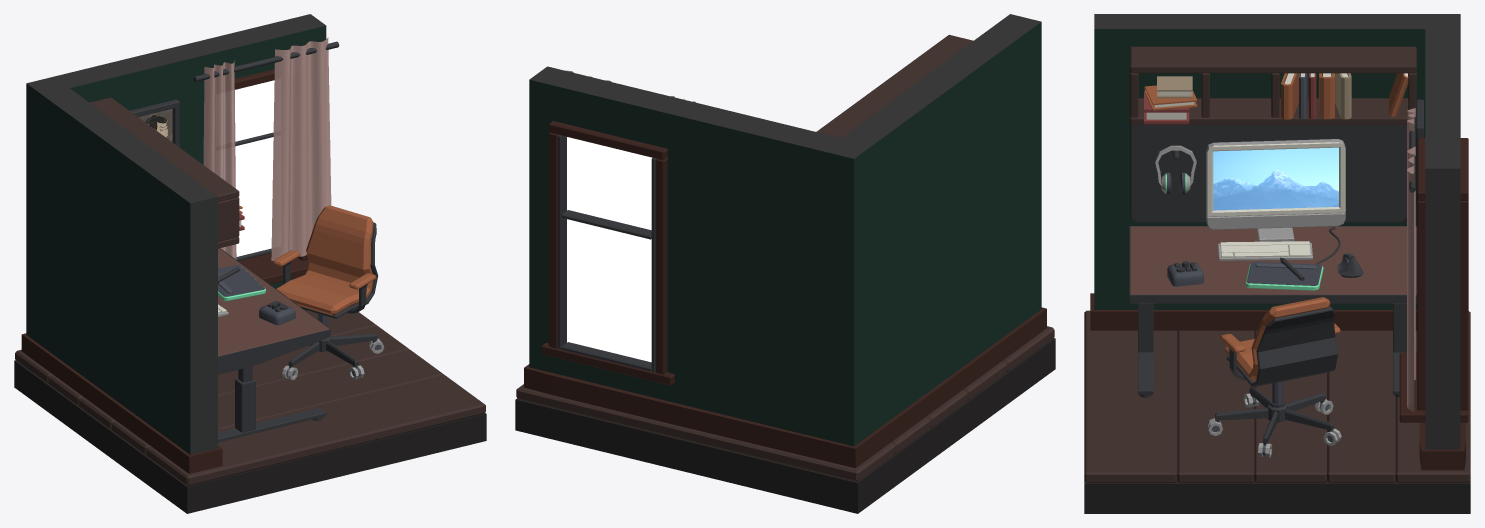
The model's file is cozy_workplace_corner_edited.glb.
3 views of the same model, side by side, from view 1: azimuth 30°, elevation 25°; view 2: azimuth 150°, elevation 25°; view 3: azimuth 270°, elevation 25° (orthographic). The views are drawn at different scales.
Visible parts, largest first — view 1: Walls, Floor (planks), Floor, Curtain R, Chair, Table, window plane, Walls (baseboard), Shelf, Curtain L, Window, Poster (+3 smaller); view 2: Walls, Floor, window plane, Walls (baseboard), Window, Floor (planks), Window (inside), Shelf; view 3: Walls, Floor (planks), Table, IKEA Pegboard, Shelf, Monoblock, Floor, Chair, Walls (baseboard), Window, Curtain R, Tablet (+12 smaller).
Part boxes in pixels (x1=…): Walls: x1=26, y1=14, x2=326, y2=454; Floor (planks): x1=15, y1=310, x2=485, y2=485; Floor: x1=14, y1=360, x2=486, y2=513; Curtain R: x1=271, y1=37, x2=331, y2=260; Chair: x1=273, y1=205, x2=384, y2=379; Table: x1=218, y1=248, x2=330, y2=442; window plane: x1=235, y1=80, x2=274, y2=256; Walls (baseboard): x1=21, y1=333, x2=222, y2=473; Shelf: x1=90, y1=97, x2=239, y2=248; Curtain L: x1=203, y1=60, x2=236, y2=259; Window: x1=234, y1=69, x2=308, y2=284; Poster: x1=130, y1=99, x2=179, y2=147; Walls: x1=529, y1=14, x2=1041, y2=446; Floor: x1=515, y1=338, x2=1055, y2=513; window plane: x1=567, y1=137, x2=652, y2=362; Walls (baseboard): x1=524, y1=307, x2=1046, y2=468; Window: x1=541, y1=121, x2=674, y2=385; Floor (planks): x1=516, y1=326, x2=1054, y2=481; Window (inside): x1=557, y1=135, x2=655, y2=372; Shelf: x1=816, y1=34, x2=973, y2=137; Walls: x1=1094, y1=14, x2=1460, y2=449; Floor (planks): x1=1084, y1=310, x2=1470, y2=482; Table: x1=1129, y1=226, x2=1417, y2=397; IKEA Pegboard: x1=1130, y1=124, x2=1406, y2=222; Shelf: x1=1130, y1=46, x2=1416, y2=124; Monoblock: x1=1206, y1=139, x2=1345, y2=241; Floor: x1=1084, y1=481, x2=1470, y2=513; Chair: x1=1207, y1=297, x2=1341, y2=457; Walls (baseboard): x1=1090, y1=293, x2=1465, y2=470; Window: x1=1399, y1=138, x2=1468, y2=422; Curtain R: x1=1407, y1=146, x2=1415, y2=411; Tablet: x1=1245, y1=262, x2=1323, y2=290.
Size of the model in its own units: 3.5 by 3.41 by 3.5.
19 materials, 2 textured.
